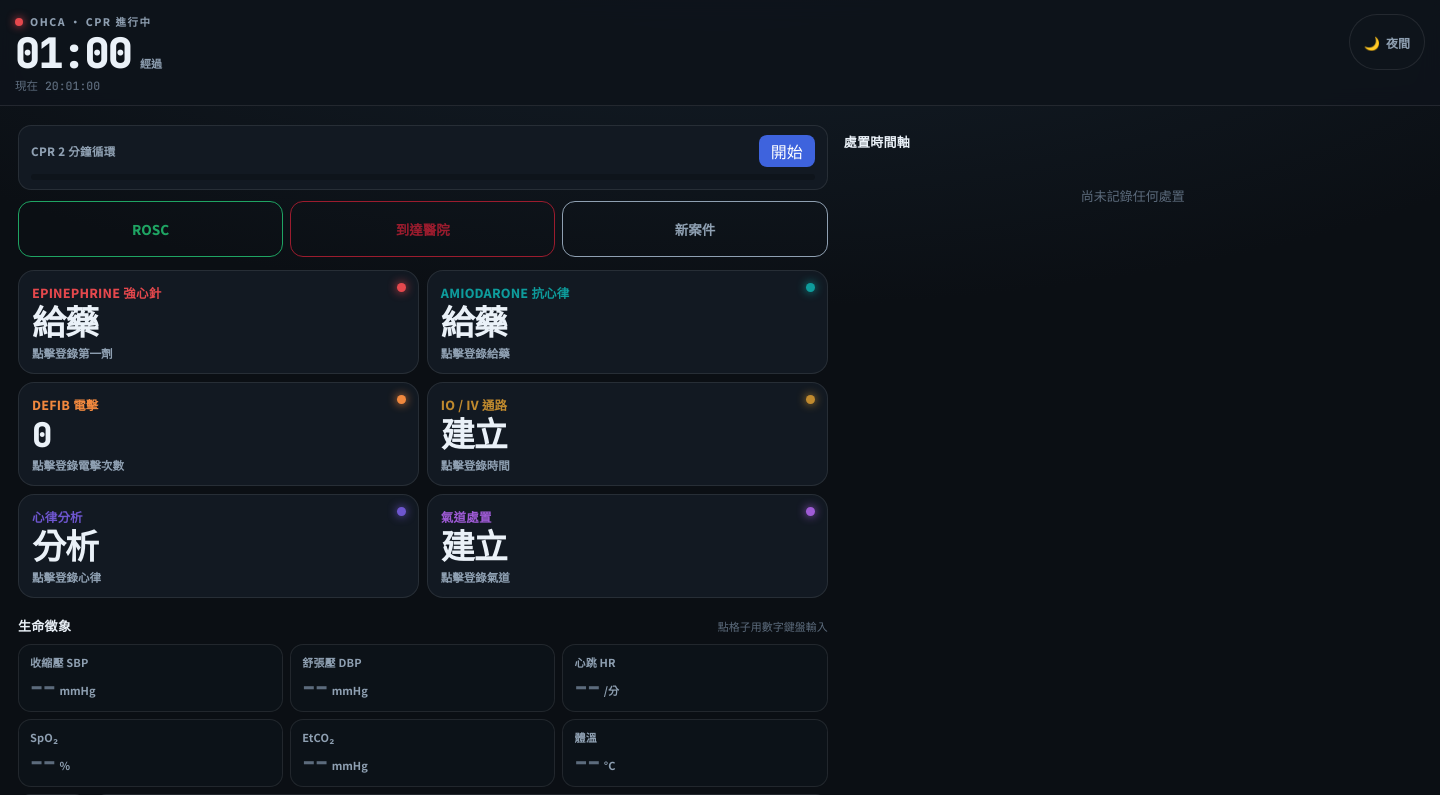
Scenario: App — US5 milestones & new case › declares ROSC and keeps the clock running (FR-014)
The width and height of the screenshot is (1440, 795).
Click the button "ROSC": {"x": 151, "y": 229} top-left (18, 201), bottom-right (283, 257)
Wait 5000 ms
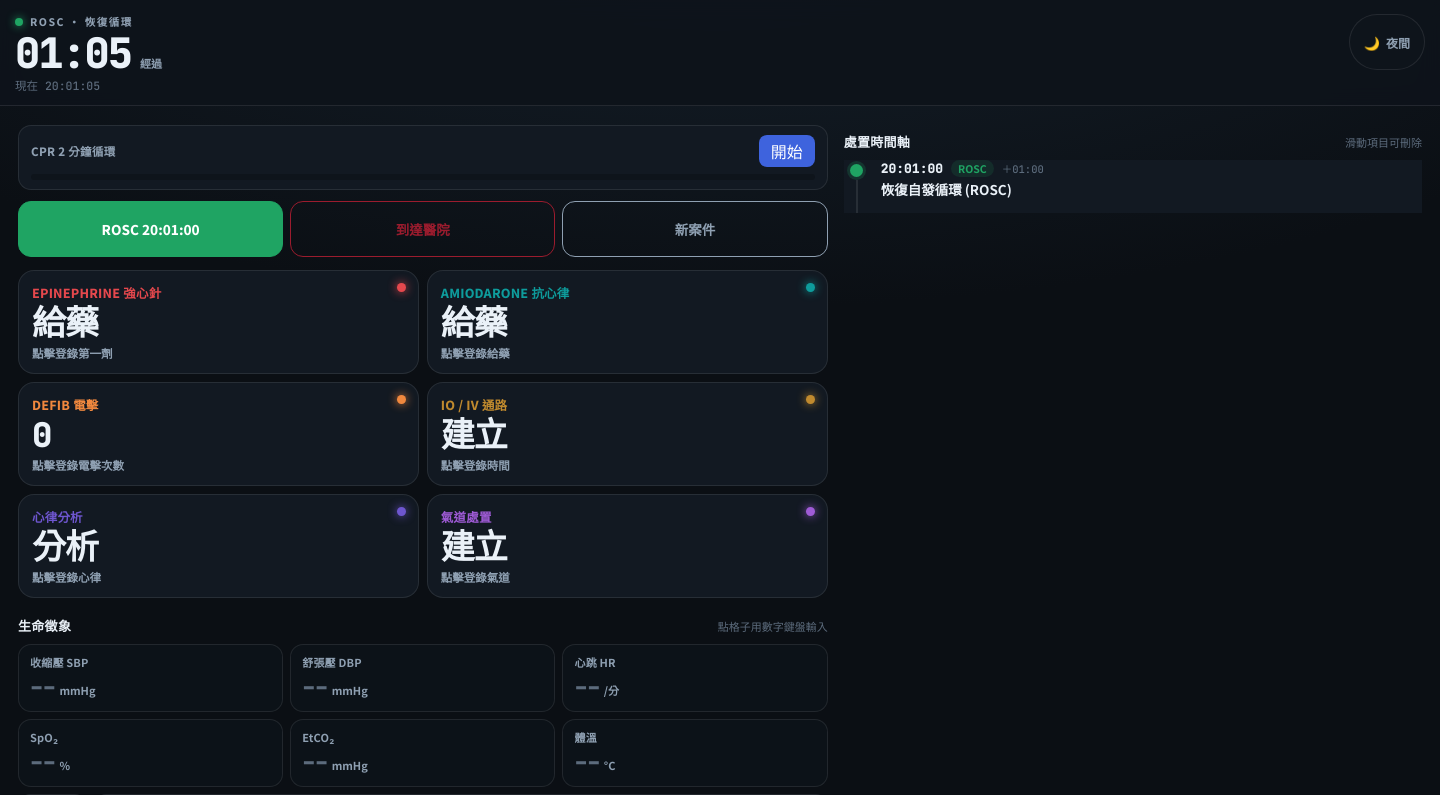
Result: the text "ROSC · 恢復循環" is shown at top-left (30, 14), bottom-right (133, 29)
Result: the text "01:05" is shown at top-left (15, 32), bottom-right (131, 74)
